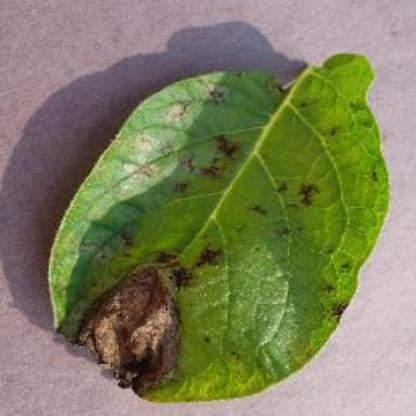Late-Blight: (39, 46, 395, 402)
